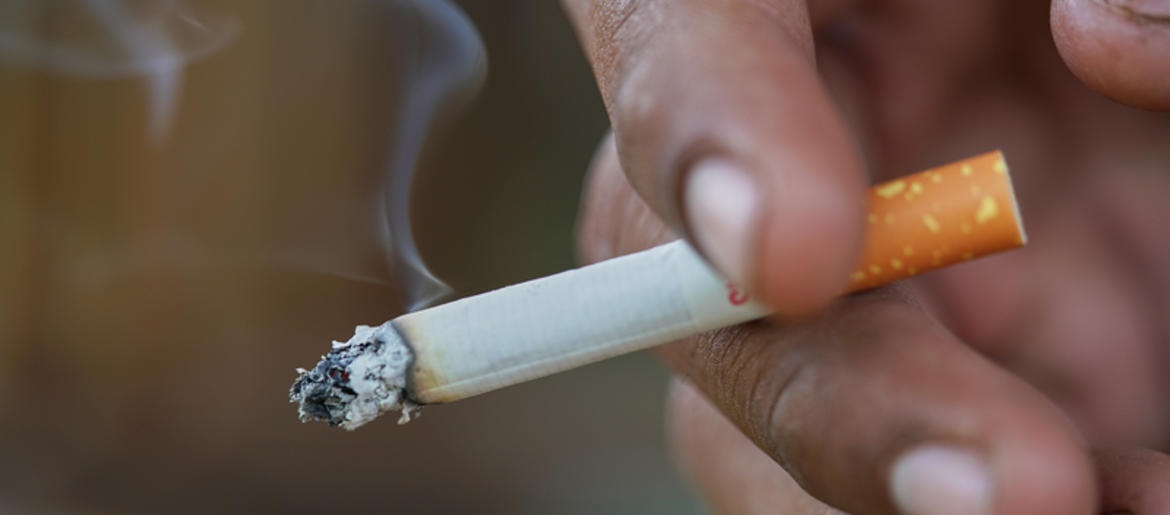sigaretta: (282, 161, 1023, 430)
